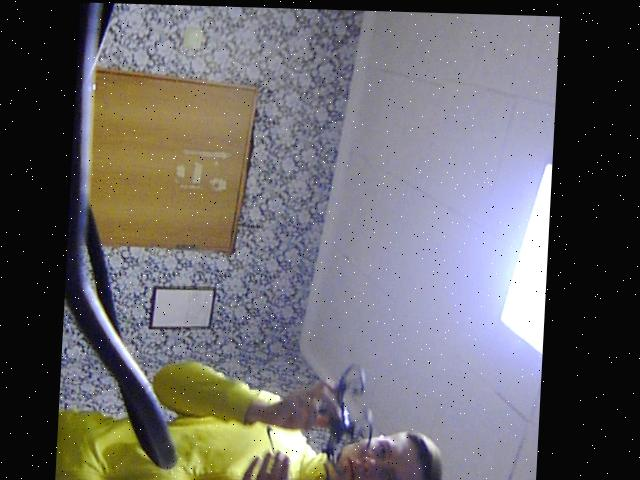drone: (317, 345, 384, 470)
